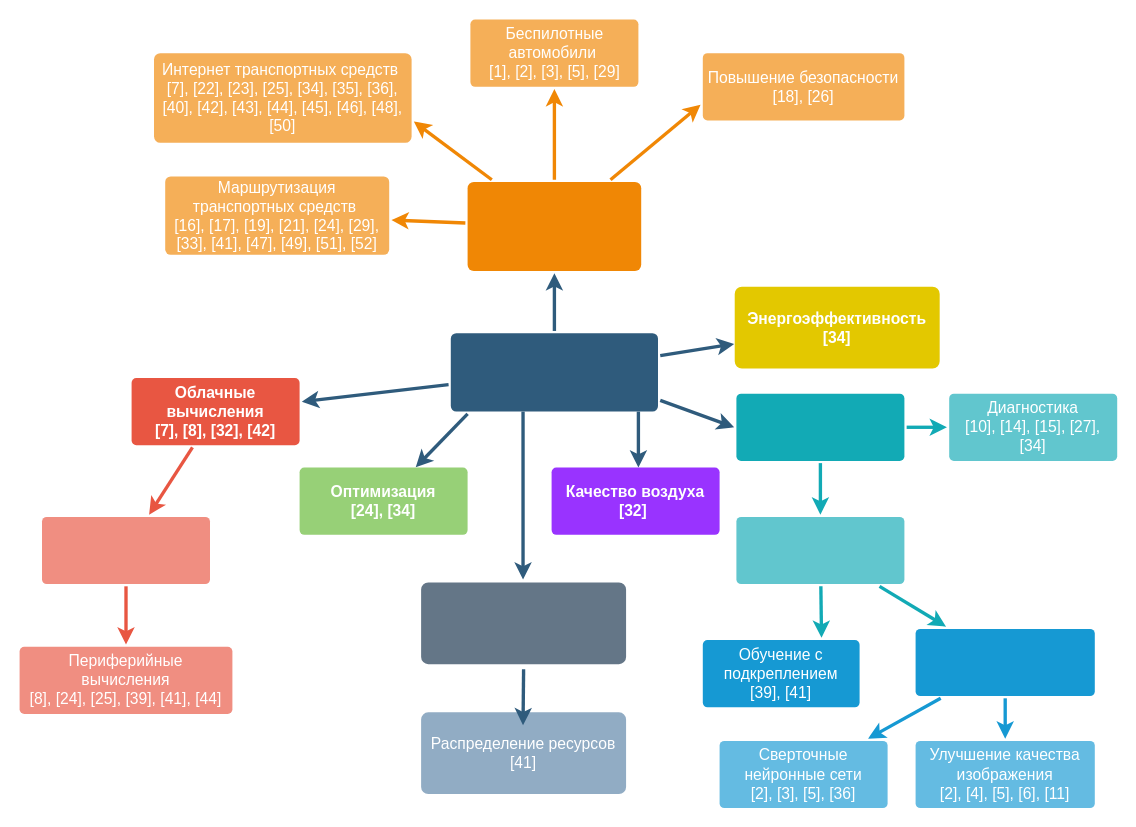
Some shapes in this 1136 by 827 pixel diagram are drawn without their labels. Each missing label, with the centre of its shape:
"Глубокое обучение [7], [10], [12], [20], [28], [30], [38], [41], [47]" goes at point 1004,662.
"Интернет вещей" goes at point 553,372.
"Искусственный интеллект" goes at point 820,426.
"Машинное обучение [1], [9], [13], [27], [31], [32], [35], [37]" goes at point 820,550.
"Разгрузка вычислительных задач [39], [44]" goes at point 523,623.
"Туманные вычисления [7], [8], [25], [42]" goes at point 125,550.
"Умная транспортная система [6], [28], [30]" goes at point 554,225.
